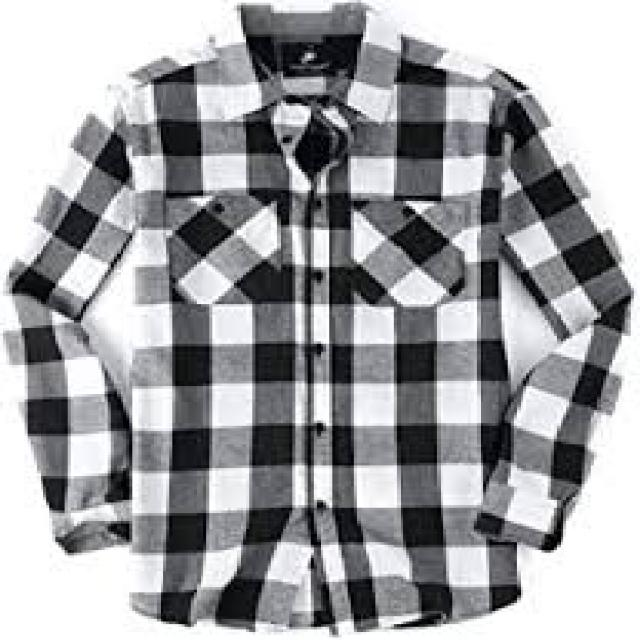plaid: (13, 5, 636, 633)
